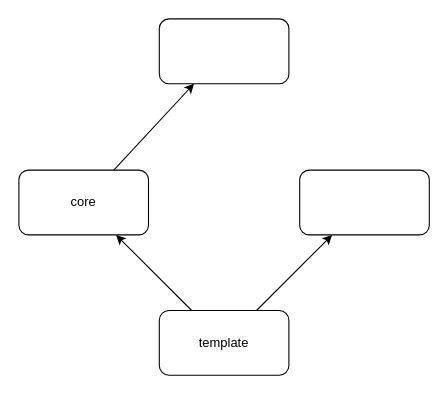
Image size: 448x394. Some labels were removed from this diagram. Each missing label, with the centre of its shape:
"dom" belongs at (x=223, y=51).
"reactive" belongs at (x=364, y=202).
